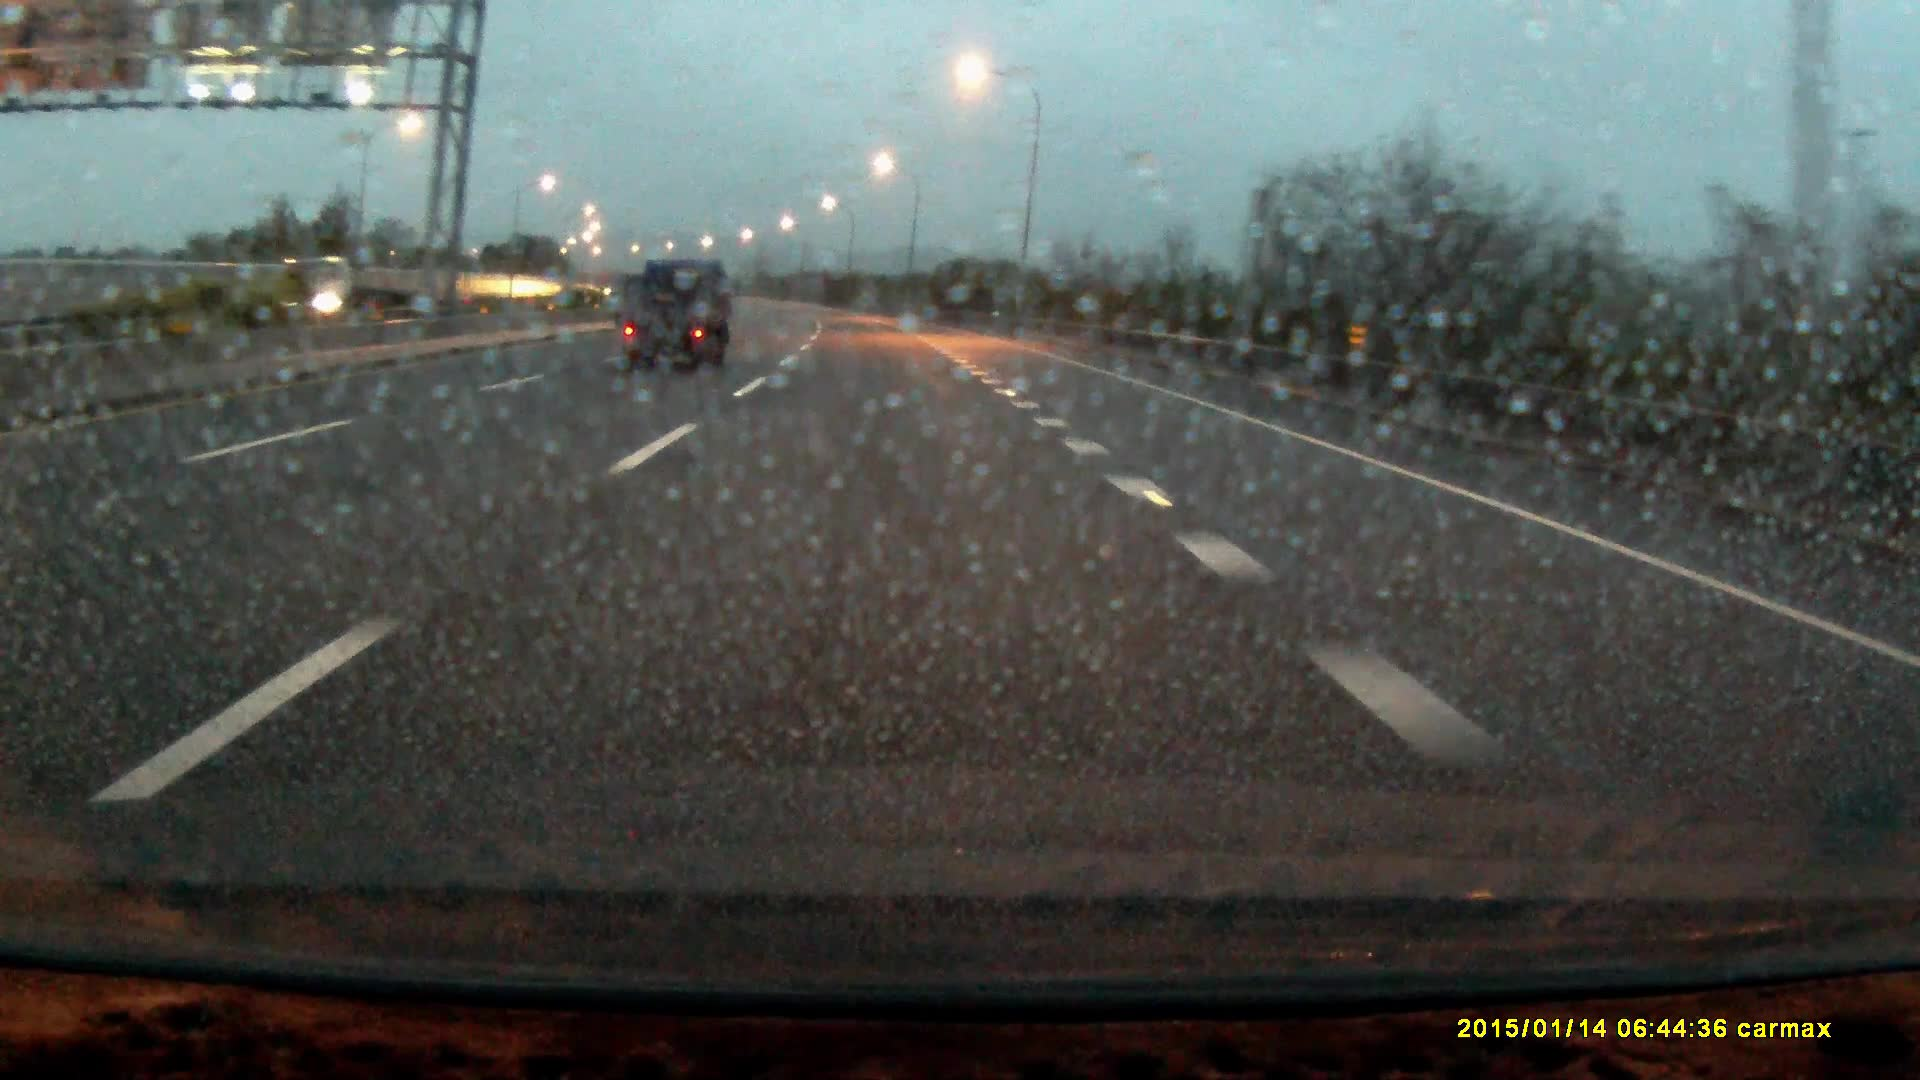vehicle: (622, 262, 735, 380), (274, 256, 411, 323)
